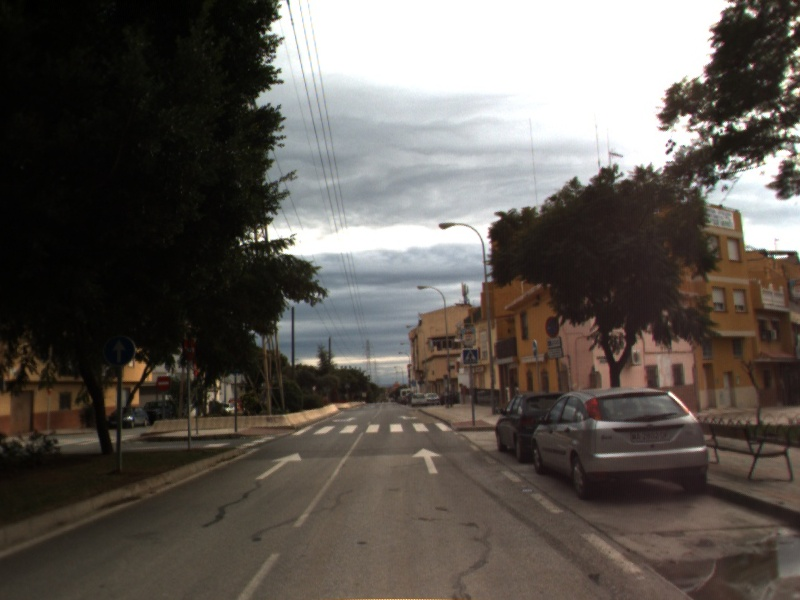STRAIGHT: (253, 450, 304, 481), (410, 446, 444, 475)
STRAIGHT_LEFT: (330, 415, 359, 424)
STRAIGHT_RIGHT: (396, 413, 421, 422)
